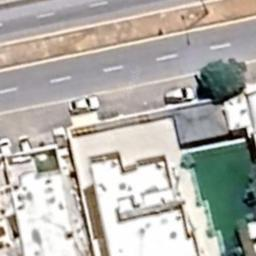SUV: (68, 96, 100, 114), (164, 86, 196, 104)
